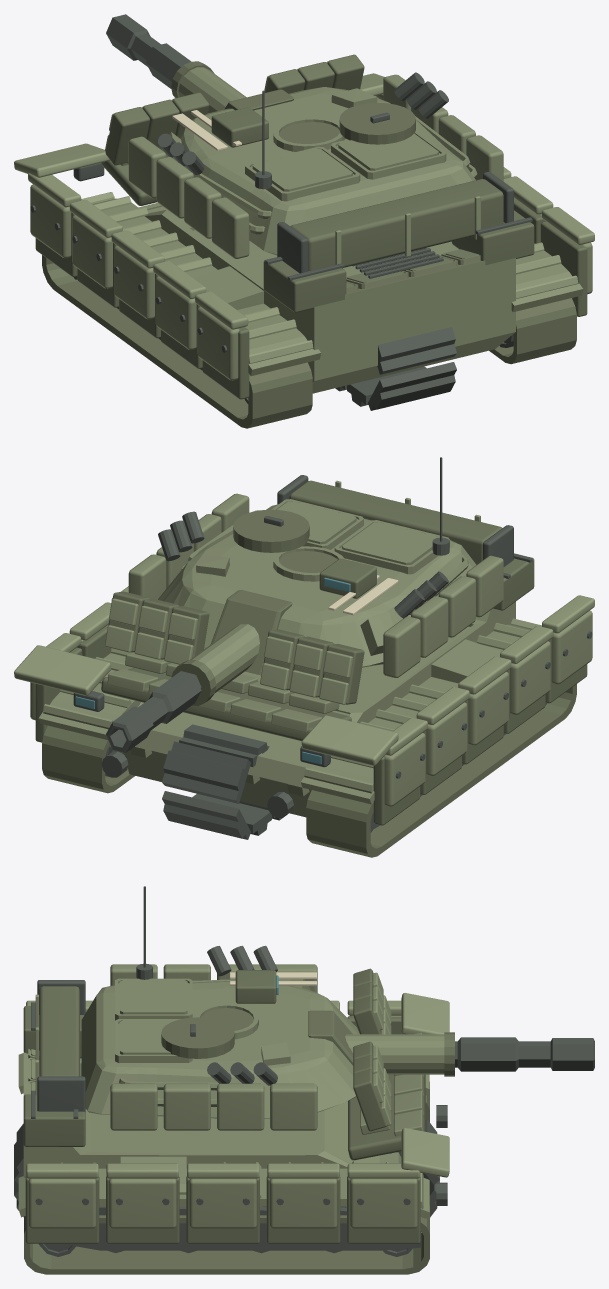
Rendered from HeavyTank.fbx.
3 renders of one model, top to bottom at view 1: azimuth 30°, elevation 25°; view 2: azimuth 150°, elevation 25°; view 3: azimuth 270°, elevation 25°, orthographic. The views are drawn at different scales.
Visible parts, largest first — view 1: Base_Tank_body, Base_Tank_Turret, Bustle equipment box, Base_TrackMesh.R, Rear fuel container -1, Base_Tank_Gun, Commander hatch, Rear fuel container 1, Spaced side armor -1 0, Spaced side armor -1 4, Spaced side armor -1 1, Spaced side armor -1 2 (+35 smaller); view 2: Base_Tank_body, Base_Tank_Turret, Base_TrackMesh.L, Bustle equipment box, Base_Tank_Gun, Front mudguard 1, Front mudguard -1, Glacis armor, Commander hatch, Thermal sleeve, Spaced side armor -1 4, Spaced side armor -1 2 (+56 smaller); view 3: Base_Tank_body, Base_Tank_Turret, Base_Tank_Gun, Bustle equipment box, Spaced side armor 1 0, Spaced side armor 1 3, Spaced side armor 1 1, Spaced side armor 1 4, Spaced side armor 1 2, Thermal sleeve, Commander hatch, Rear fuel container 1 (+29 smaller).
Boxes of the visible parts, left/top/right/bottom form: Base_Tank_body: left=42, top=192, right=582, bottom=428; Base_Tank_Turret: left=158, top=87, right=477, bottom=255; Bustle equipment box: left=290, top=179, right=503, bottom=270; Base_TrackMesh.R: left=342, top=327, right=456, bottom=409; Rear fuel container -1: left=263, top=257, right=346, bottom=312; Base_Tank_Gun: left=106, top=14, right=190, bottom=88; Commander hatch: left=339, top=102, right=415, bottom=144; Rear fuel container 1: left=452, top=210, right=534, bottom=265; Spaced side armor -1 0: left=197, top=307, right=239, bottom=380; Spaced side armor -1 4: left=30, top=184, right=71, bottom=258; Spaced side armor -1 1: left=155, top=276, right=196, bottom=349; Spaced side armor -1 2: left=114, top=245, right=154, bottom=319; Base_Tank_body: left=38, top=601, right=576, bottom=857; Base_Tank_Turret: left=158, top=499, right=476, bottom=675; Base_TrackMesh.L: left=164, top=725, right=284, bottom=839; Bustle equipment box: left=289, top=480, right=502, bottom=564; Base_Tank_Gun: left=106, top=671, right=201, bottom=752; Front mudguard 1: left=14, top=645, right=110, bottom=695; Front mudguard -1: left=301, top=715, right=398, bottom=765; Glacis armor: left=101, top=668, right=351, bottom=741; Commander hatch: left=233, top=509, right=309, bottom=552; Thermal sleeve: left=190, top=624, right=259, bottom=692; Spaced side armor -1 4: left=384, top=733, right=425, bottom=806; Spaced side armor -1 2: left=468, top=671, right=509, bottom=745; Base_Tank_body: left=18, top=1049, right=429, bottom=1274; Base_Tank_Turret: left=81, top=978, right=359, bottom=1118; Base_Tank_Gun: left=455, top=1037, right=594, bottom=1071; Bustle equipment box: left=39, top=986, right=79, bottom=1076; Spaced side armor 1 0: left=28, top=1178, right=96, bottom=1228; Spaced side armor 1 3: left=269, top=1178, right=337, bottom=1228; Spaced side armor 1 1: left=109, top=1178, right=176, bottom=1228; Spaced side armor 1 4: left=350, top=1178, right=417, bottom=1228; Spaced side armor 1 2: left=189, top=1178, right=256, bottom=1228; Thermal sleeve: left=345, top=1034, right=444, bottom=1074; Commander hatch: left=161, top=1017, right=234, bottom=1058; Rear fuel container 1: left=23, top=1094, right=85, bottom=1146.
Size of the model in its own units: 421 by 323 by 600.
